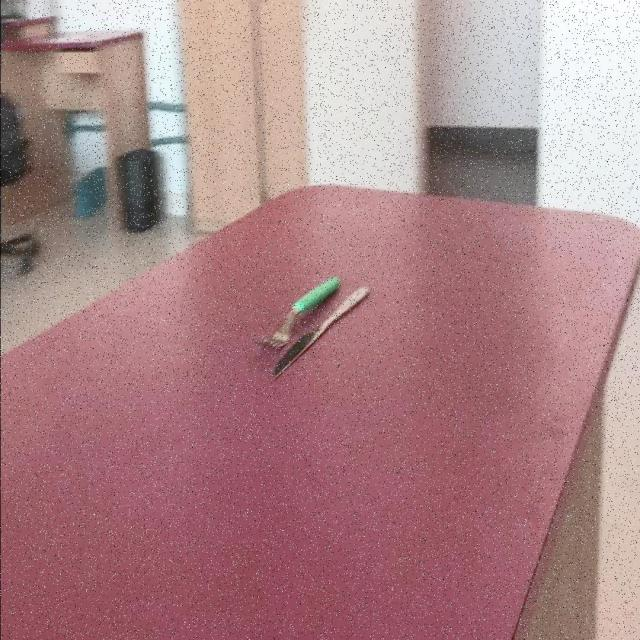Fork: (255, 276, 341, 351)
Knife: (272, 287, 372, 383)
